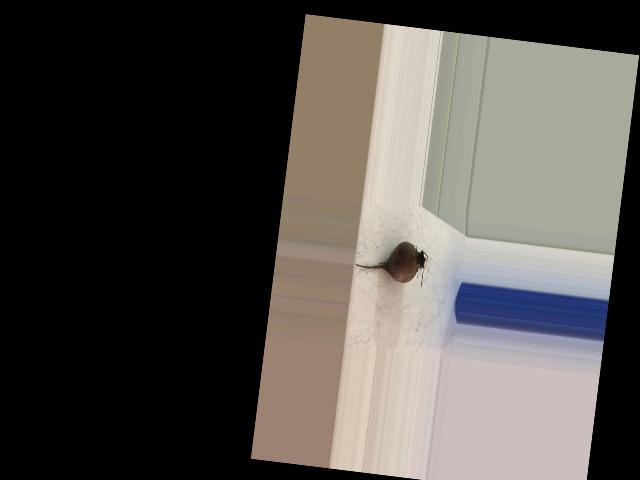beet: (353, 236, 429, 289)
